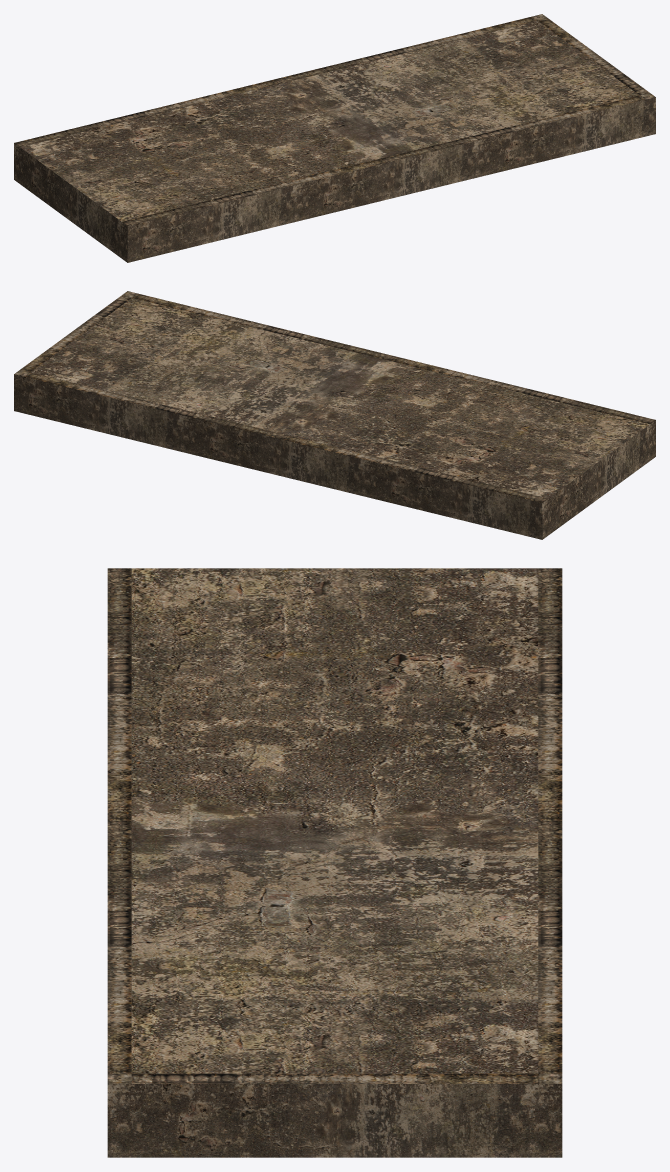
The model's file is materials_5_floor_rectangle_19.fbx.
3 views of the same model, one above another, from view 1: azimuth 30°, elevation 25°; view 2: azimuth 150°, elevation 25°; view 3: azimuth 270°, elevation 25° (orthographic). The views are drawn at different scales.
Visible parts, largest first — view 1: materials_5_floor_rectangle_19; view 2: materials_5_floor_rectangle_19; view 3: materials_5_floor_rectangle_19.
Part boxes in pixels (x1=…): materials_5_floor_rectangle_19: x1=14, y1=14, x2=655, y2=262; materials_5_floor_rectangle_19: x1=14, y1=291, x2=655, y2=539; materials_5_floor_rectangle_19: x1=107, y1=568, x2=562, y2=1157.
Size of the model in its own units: 200 by 13.33 by 74.5.
